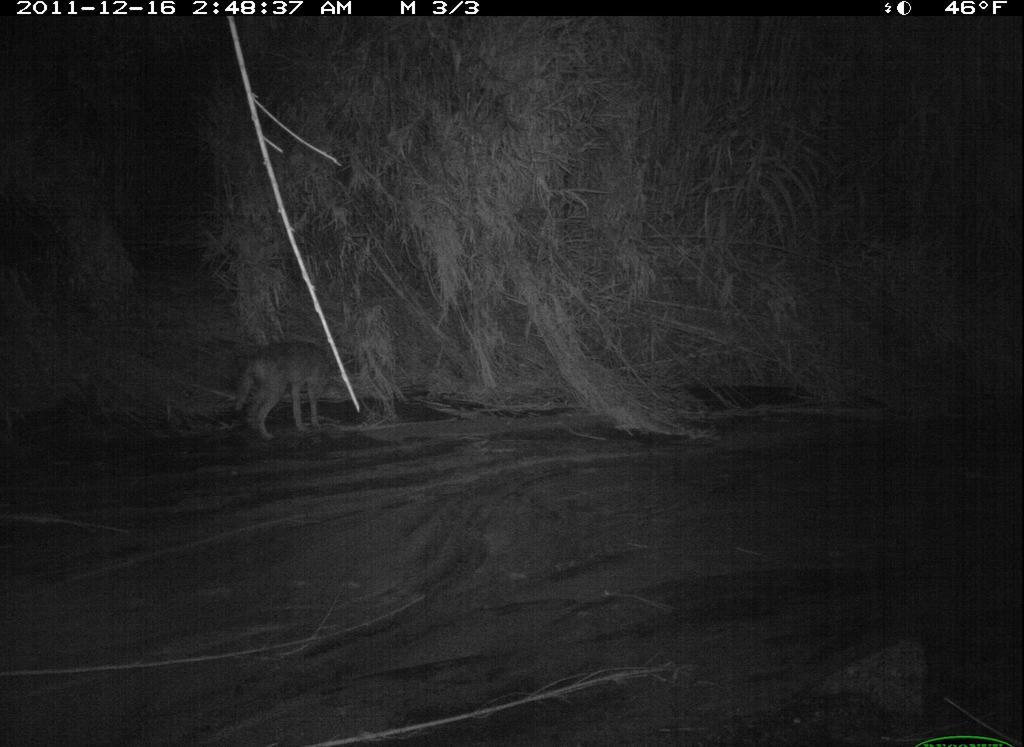coyote: (199, 341, 376, 447)
